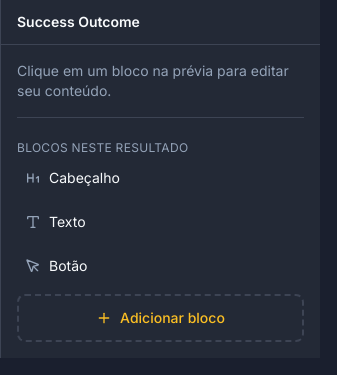
ConnectedPropertiesPanel › Result step with outcomes › can edit outcome blocks
The width and height of the screenshot is (337, 375).
Click on the header block to edit
Click the button "Cabeçalho". click: (144, 178)
box: [25,168,264,188]
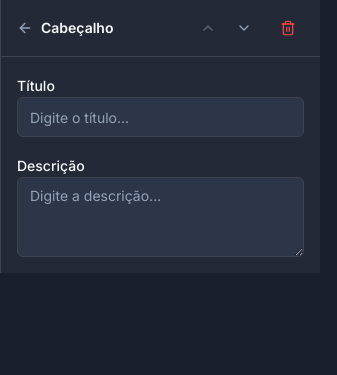
Expected: the element with test id "header-block-editor" is shown, [17,73,304,257]
